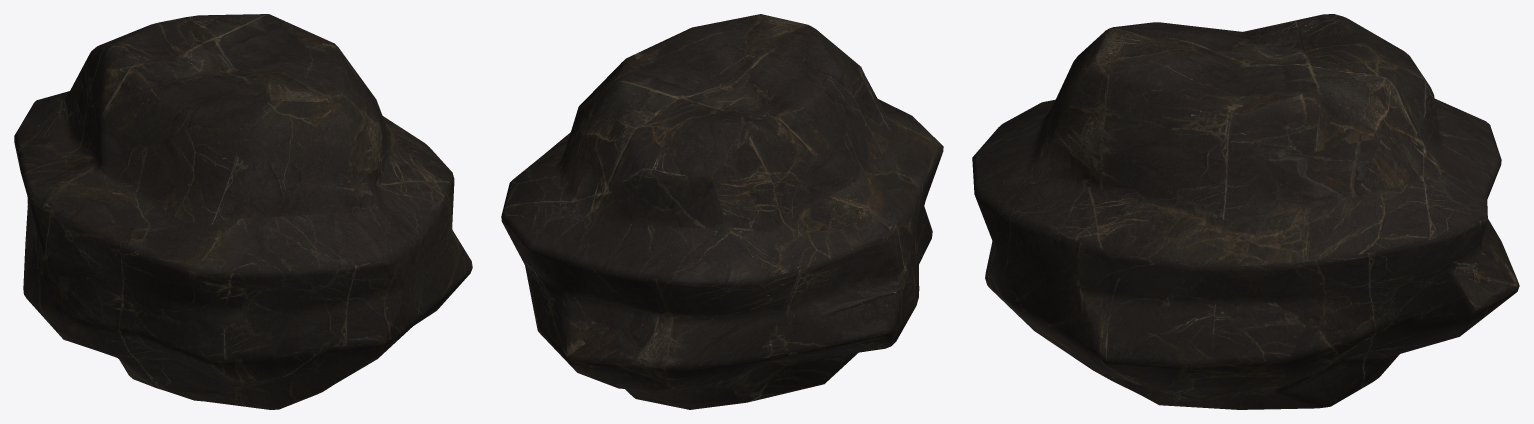
File: ravine_boulder_b.glb
3 renders of one model, left to right at view 1: azimuth 30°, elevation 25°; view 2: azimuth 150°, elevation 25°; view 3: azimuth 270°, elevation 25°, orthographic. The views are drawn at different scales.
Parts seen in each view (by area): view 1: ravine_boulder_b; view 2: ravine_boulder_b; view 3: ravine_boulder_b.
Boxes of the visible parts, x1,y1,x2,y2 form: ravine_boulder_b: (14, 14, 472, 409); ravine_boulder_b: (501, 14, 943, 409); ravine_boulder_b: (972, 14, 1519, 409).
Bounding box in the file's own units: 1.99 × 1.6 × 2.39.
Materials: 1 (1 with a texture image).
